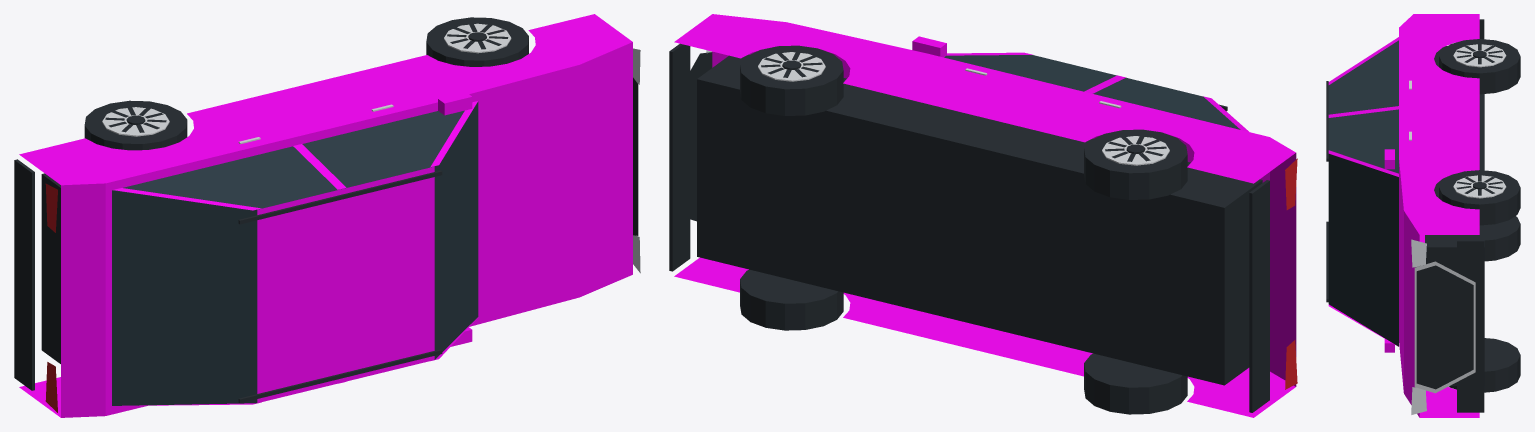
The model's file is mazda-cx5.glb.
3 renders of one model, left to right at view 1: azimuth 30°, elevation 25°; view 2: azimuth 150°, elevation 25°; view 3: azimuth 270°, elevation 25°, orthographic. The views are drawn at different scales.
Parts seen in each view (by area): view 1: mazda-cx5; view 2: mazda-cx5; view 3: mazda-cx5.
Boxes of the visible parts, left/top/right/bottom form: mazda-cx5: left=14, top=14, right=640, bottom=417; mazda-cx5: left=669, top=14, right=1297, bottom=417; mazda-cx5: left=1326, top=14, right=1520, bottom=417.
Size of the model in its own units: 4.55 by 1.84 by 1.67.
